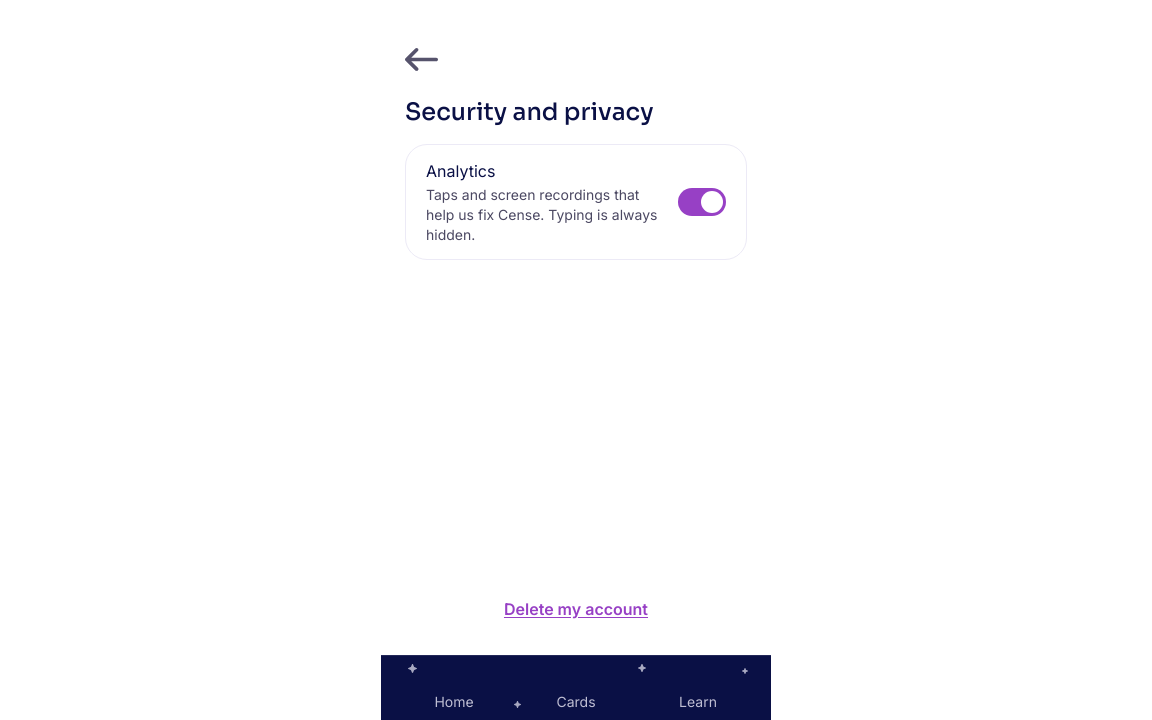
Test case: Delete my account › resumes analytics and shows the reason when the deletion fails
Step 1. Click the button "Delete my account" → {"x": 576, "y": 609}, box [405,587,747,631]
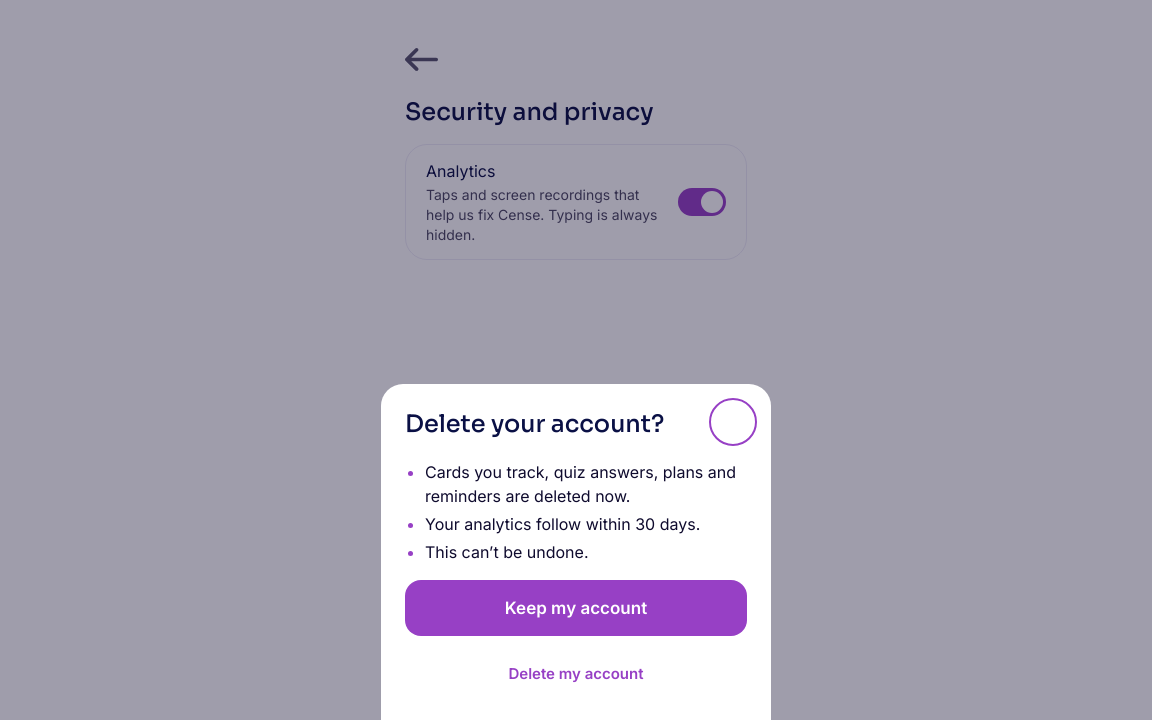
Step 2. Click the button "Delete my account" → {"x": 576, "y": 674}, box [405,652,747,696]
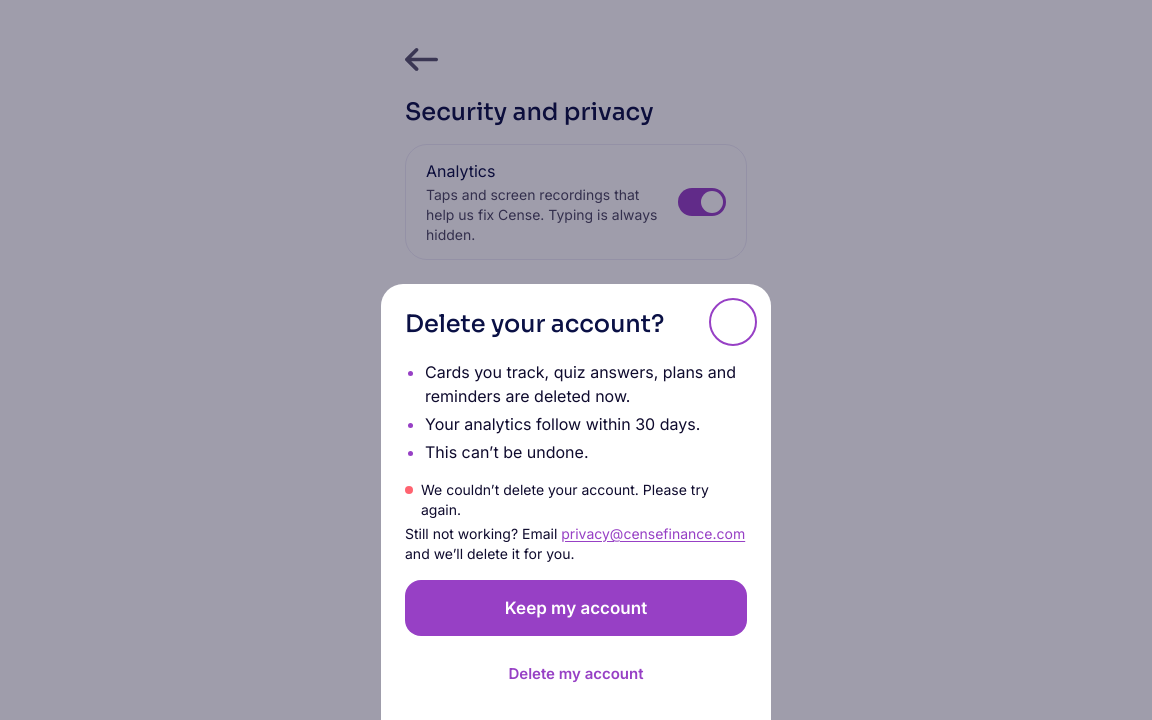
Check: the message reads "We couldn’t delete your account. Please try again.", box [421,481,709,518]
